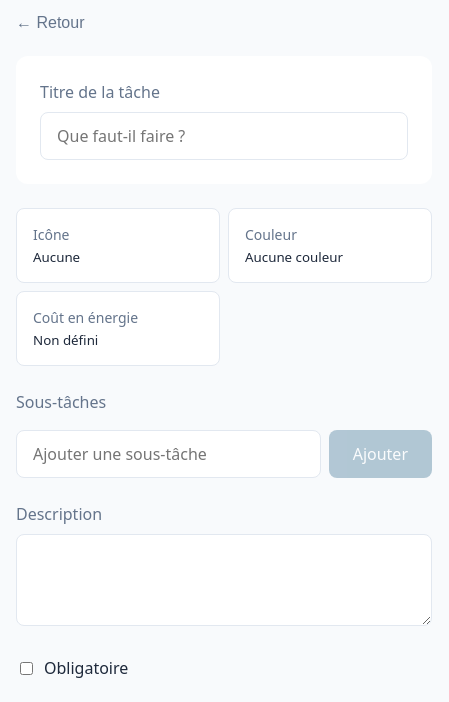
E21CreateTaskV2 › propose les catégories de tâche configurées à la place du sélecteur natif (#35)
The image size is (449, 702).
Step 1. Click the button with aria-label "Modifier Couleur" → (330, 246), box [245,225,415,266]
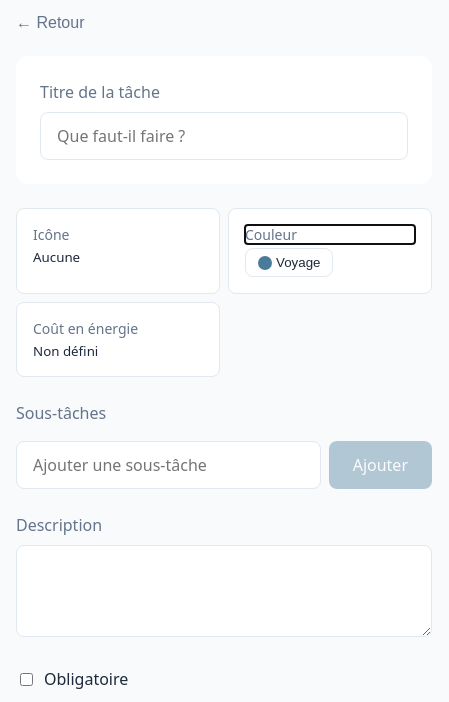
Expected: the button "Voyage" is shown, [245,248,334,277]
